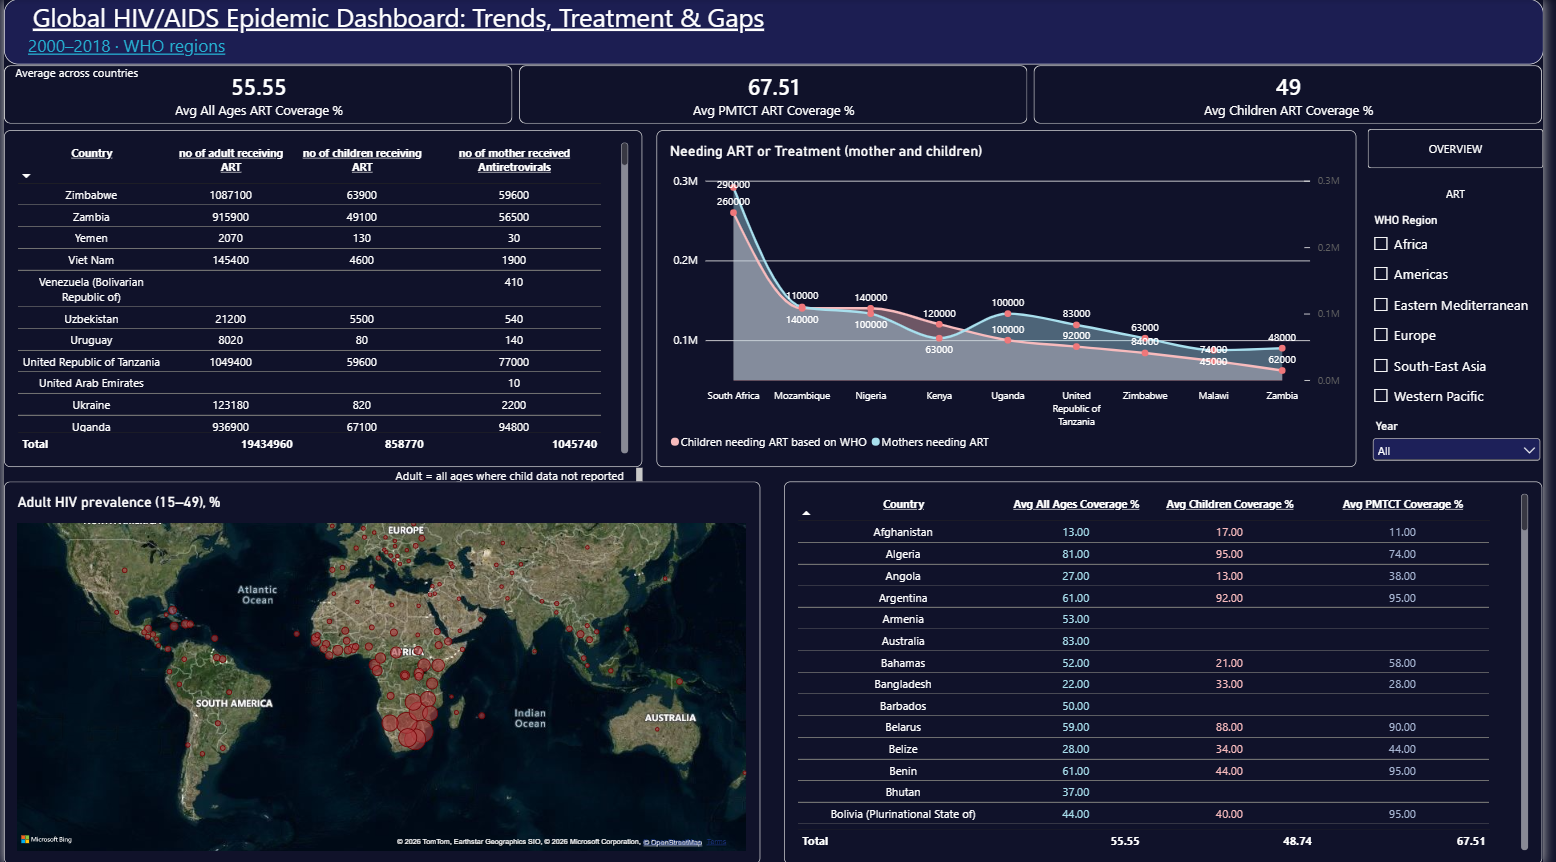

The page's visual inventory and layout, read from the dashboard file:
{"tool":"powerbi","page":{"name":"ART  ","canvas":[1920,1080],"ordinal":1},"visuals":[{"type":"textbox","box":[0,0,1920.4,82],"z":0},{"type":"cardVisual","fields":{"Data":["art_coverage_by_country_clean csv.Avg All Ages Coverage %","prevention_of_mother_to_child_transmission_by_country_clean csv.Avg PMTCT Coverage %","children_art_pediatric_coverage_by_country_clean csv.Avg Children Coverage %"]},"box":[0,82,1920.4,73.3],"z":1000},{"type":"slicer","fields":{"Values":["art_coverage_by_country_clean csv.WHO Region"]},"box":[1700.8,266.6,219.8,247.9],"z":2000},{"type":"tableEx","title":"Received ART ","fields":{"Values":["children_art_pediatric_coverage_by_country_clean csv.Country","art_coverage_by_country_clean csv.a","Sum(children_art_pediatric_coverage_by_country_clean csv.no of children receiving ART)","Sum(prevention_of_mother_to_child_transmission_by_country_clean csv.Received Antiretrovirals)"]},"box":[0,164.3,795.9,420.4],"z":5000},{"type":"areaChart","title":"Needing ART or Treatment  (mother and children)","fields":{"Category":["children_art_pediatric_coverage_by_country_clean csv.Country"],"Y":["Sum(children_art_pediatric_coverage_by_country_clean csv.no of children needing ART based on WHO)"],"Y2":["Sum(prevention_of_mother_to_child_transmission_by_country_clean csv.Needing antiretrovirals.1)"]},"box":[813,164.3,872.7,420.4],"z":7000},{"type":"pageNavigator","box":[1700.4,162.8,219.4,107.7],"z":9000},{"type":"map","title":"Adult HIV prevalence (15–49), %","fields":{"Category":["no_of_cases_adults_15_to_49_by_country_clean csv.Country"],"Size":["Avg(no_of_cases_adults_15_to_49_by_country_clean csv.% of adult case)"]},"box":[0,601.7,943.1,478],"z":9001},{"type":"tableEx","fields":{"Values":["prevention_of_mother_to_child_transmission_by_country_clean csv.Country","art_coverage_by_country_clean csv.Avg All Ages Coverage %","children_art_pediatric_coverage_by_country_clean csv.Avg Children Coverage %","prevention_of_mother_to_child_transmission_by_country_clean csv.Avg PMTCT Coverage %"]},"box":[973,602.2,945.5,477.3],"z":9002},{"type":"textbox","box":[472.3,584.6,324.3,17.1],"z":9003},{"type":"slicer","fields":{"Values":["no_of_cases_adults_15_to_49_by_country_clean csv.Year"]},"box":[1702.3,523.8,218.2,70.2],"z":9004},{"type":"textbox","box":[14,82.6,179.3,18.7],"z":9005}]}

Visuals, with their boxes in screenshot pixels (x1, y1, x2, y2), scaled from the page's 1920x1080 canvas onto the 1556x862 screenshot:
textbox: x1=0 y1=0 x2=1555 y2=65
cardVisual - art_coverage_by_country_clean csv.Avg All Ages Coverage % x prevention_of_mother_to_child_transmission_by_country_clean csv.Avg PMTCT Coverage %: x1=0 y1=65 x2=1555 y2=124
slicer - art_coverage_by_country_clean csv.WHO Region: x1=1378 y1=213 x2=1555 y2=411
"Received ART " tableEx: x1=0 y1=131 x2=645 y2=467
"Needing ART or Treatment  (mother and children)" areaChart: x1=659 y1=131 x2=1366 y2=467
pageNavigator: x1=1378 y1=130 x2=1555 y2=216
"Adult HIV prevalence (15–49), %" map: x1=0 y1=480 x2=764 y2=861
tableEx - prevention_of_mother_to_child_transmission_by_country_clean csv.Country x art_coverage_by_country_clean csv.Avg All Ages Coverage %: x1=789 y1=481 x2=1555 y2=861
textbox: x1=383 y1=467 x2=646 y2=480
slicer - no_of_cases_adults_15_to_49_by_country_clean csv.Year: x1=1380 y1=418 x2=1555 y2=474
textbox: x1=11 y1=66 x2=157 y2=81
